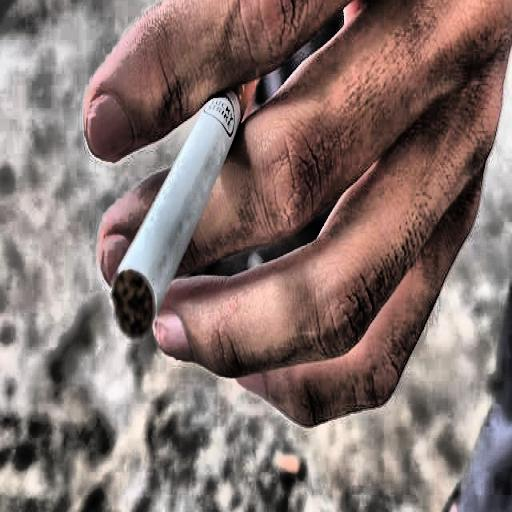Asbak: (113, 94, 242, 334)
